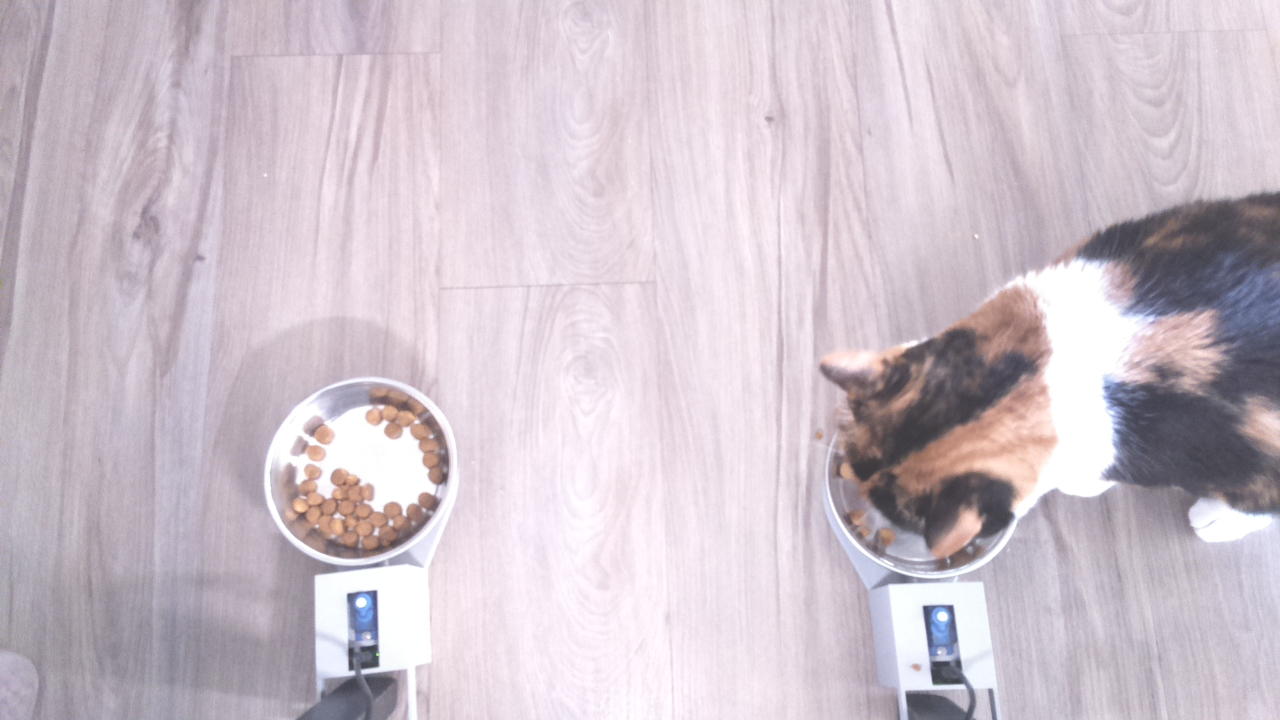bella_eating: (798, 289, 1135, 584)
open_bowl: (262, 373, 464, 569)
